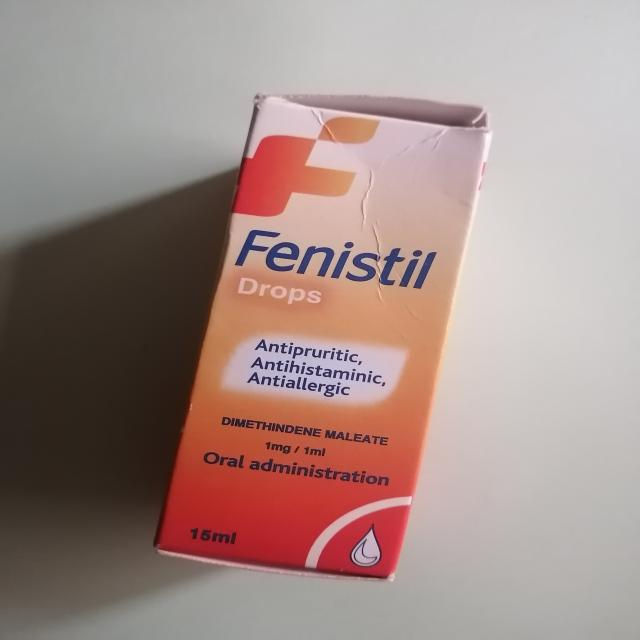Medicine: (146, 82, 490, 581)
